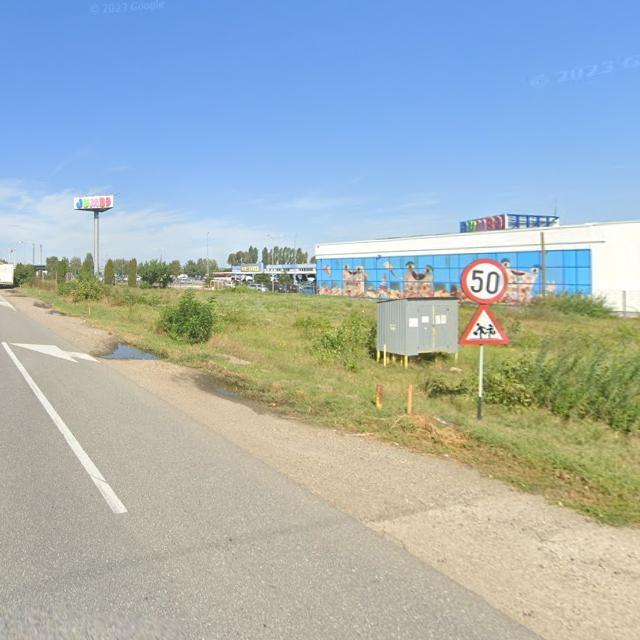forb_speed_over_50: (461, 253, 509, 305)
